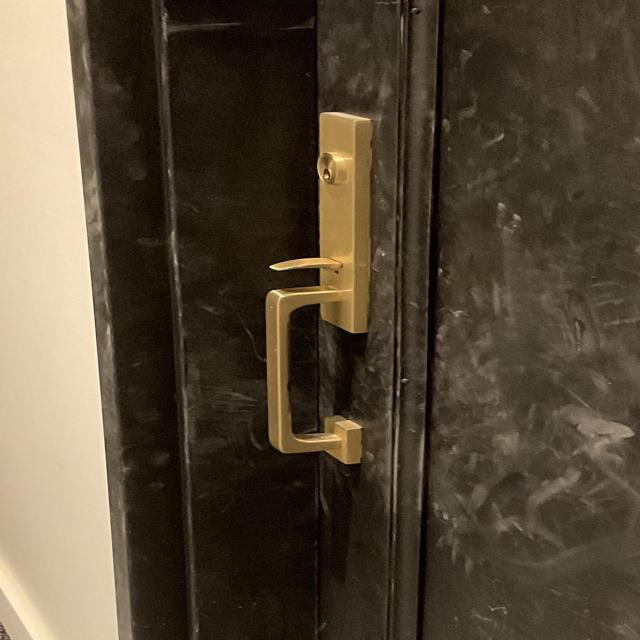door_handle: (251, 282, 388, 470)
